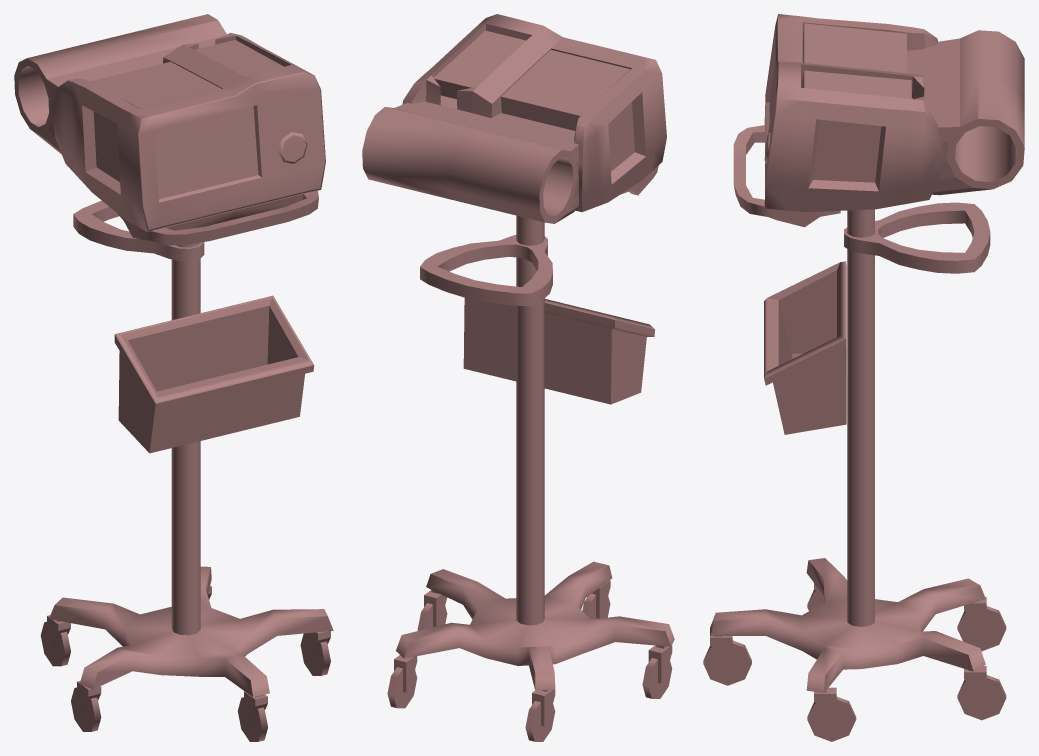
File: ER_Defib.fbx
The picture shows the model from 3 angles, left to right: view 1: azimuth 30°, elevation 25°; view 2: azimuth 150°, elevation 25°; view 3: azimuth 270°, elevation 25°; orthographic projection. The views are drawn at different scales.
Visible parts, largest first — view 1: Defib_Machine_Low, Defib_Basket_Low, Defib_WheelStand_Low, Defib_Wiresorter_Low, Defib_Pole_Low, Defib_Handle_Low, Defib_Machine1_Low, Defib_CartHandle_Low, Defib_Machine2_Low, Defib_Wheel5_Low, Defib_Wheel2_Low, Defib_Wheel3_Low (+2 smaller); view 2: Defib_Wiresorter_Low, Defib_Machine_Low, Defib_WheelStand_Low, Defib_Basket_Low, Defib_Pole_Low, Defib_Machine1_Low, Defib_CartHandle_Low, Defib_Machine2_Low, Defib_Wheel4_Low, Defib_Wheel1_Low, Defib_Wheel5_Low, Defib_WheelSupport1_Low; view 3: Defib_Machine_Low, Defib_WheelStand_Low, Defib_Wiresorter_Low, Defib_Basket_Low, Defib_Pole_Low, Defib_CartHandle_Low, Defib_Machine1_Low, Defib_Handle_Low, Defib_Machine2_Low, Defib_Wheel4_Low, Defib_Wheel2_Low, Defib_Wheel3_Low (+5 smaller).
Boxes of the visible parts, x1,y1,x2,y2 form: Defib_Machine_Low: (52, 33, 325, 231); Defib_Basket_Low: (114, 295, 314, 453); Defib_WheelStand_Low: (49, 566, 333, 697); Defib_Wiresorter_Low: (14, 14, 226, 153); Defib_Pole_Low: (171, 242, 200, 635); Defib_Handle_Low: (117, 190, 318, 245); Defib_Machine1_Low: (90, 61, 221, 108); Defib_CartHandle_Low: (73, 200, 204, 261); Defib_Machine2_Low: (194, 40, 283, 76); Defib_Wheel5_Low: (40, 621, 70, 666); Defib_Wheel2_Low: (237, 697, 267, 741); Defib_Wheel3_Low: (300, 633, 330, 675); Defib_Wiresorter_Low: (362, 102, 578, 223); Defib_Machine_Low: (402, 14, 666, 212); Defib_WheelStand_Low: (396, 561, 674, 690); Defib_Basket_Low: (463, 298, 655, 404); Defib_Pole_Low: (516, 215, 544, 625); Defib_Machine1_Low: (501, 50, 630, 130); Defib_CartHandle_Low: (420, 235, 552, 306); Defib_Machine2_Low: (434, 30, 525, 99); Defib_Wheel4_Low: (387, 667, 417, 708); Defib_Wheel1_Low: (642, 658, 672, 698); Defib_Wheel5_Low: (525, 701, 555, 741); Defib_WheelSupport1_Low: (648, 645, 672, 683); Defib_Machine_Low: (764, 14, 942, 212); Defib_WheelStand_Low: (710, 558, 985, 692); Defib_Wiresorter_Low: (907, 30, 1024, 195); Defib_Basket_Low: (764, 261, 846, 434); Defib_Pole_Low: (847, 209, 874, 626); Defib_CartHandle_Low: (844, 202, 990, 273); Defib_Machine1_Low: (802, 23, 906, 73); Defib_Handle_Low: (733, 125, 840, 227); Defib_Machine2_Low: (801, 70, 911, 99); Defib_Wheel4_Low: (957, 675, 1006, 720); Defib_Wheel2_Low: (703, 640, 751, 685); Defib_Wheel3_Low: (807, 696, 856, 741).
Size of the model in its own units: 56.98 by 138 by 63.21.
